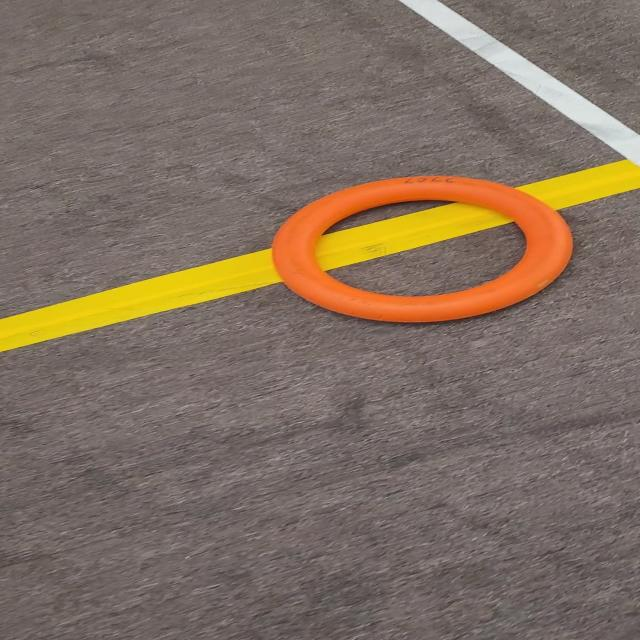note: (262, 169, 588, 335)
